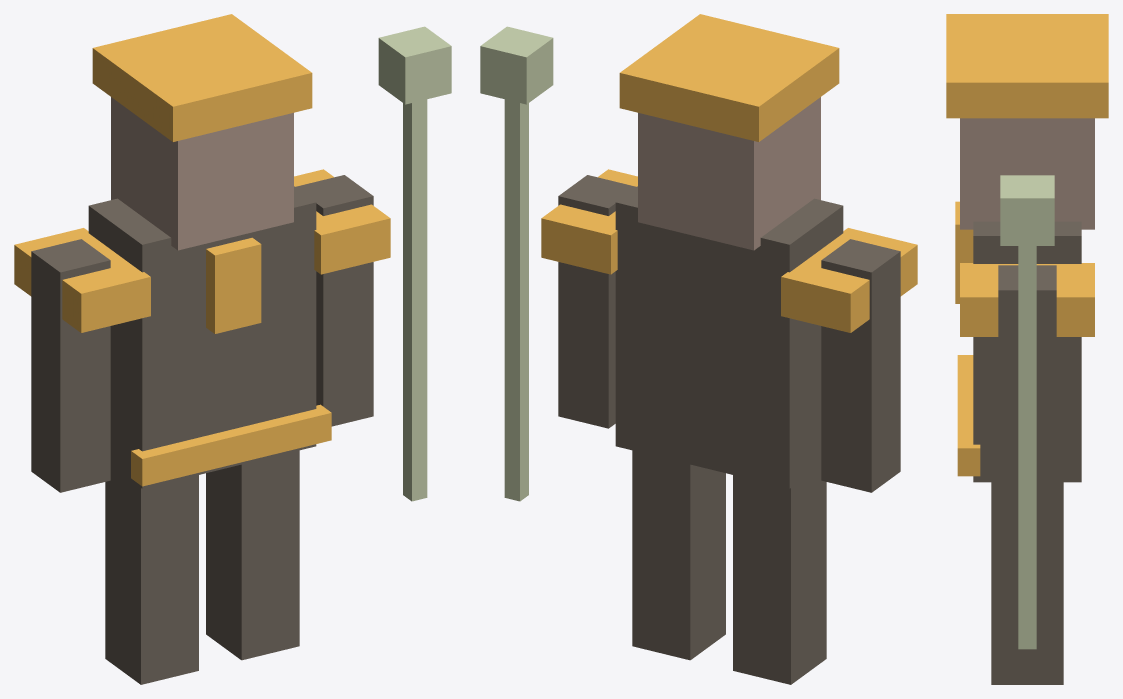
Rendered from 04_lio_latchward_herald_from_containment.glb.
3 views of the same model, side by side, from view 1: azimuth 30°, elevation 25°; view 2: azimuth 150°, elevation 25°; view 3: azimuth 270°, elevation 25° (orthographic).
Parts seen in each view (by area): view 1: Lio Latchward, Herald from Containment; view 2: Lio Latchward, Herald from Containment; view 3: Lio Latchward, Herald from Containment.
Boxes of the visible parts, <box> form: Lio Latchward, Herald from Containment: <box>14,14,451,684</box>; Lio Latchward, Herald from Containment: <box>480,14,917,684</box>; Lio Latchward, Herald from Containment: <box>946,14,1108,684</box>.
Size of the model in its own units: 1.1 by 1.58 by 0.3886.
